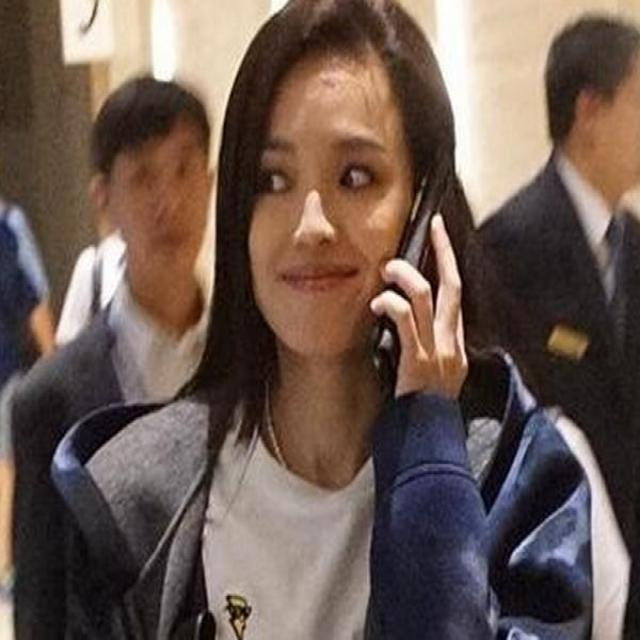phone: (321, 140, 467, 389)
